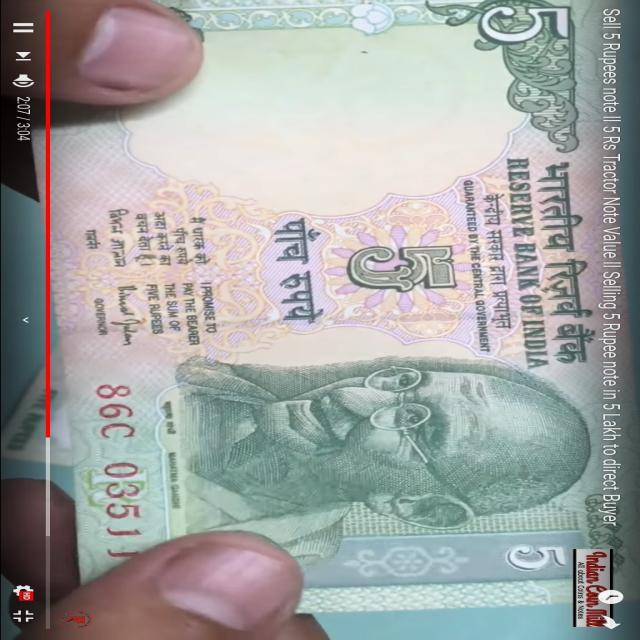5IndianRupees: (67, 0, 603, 598)
